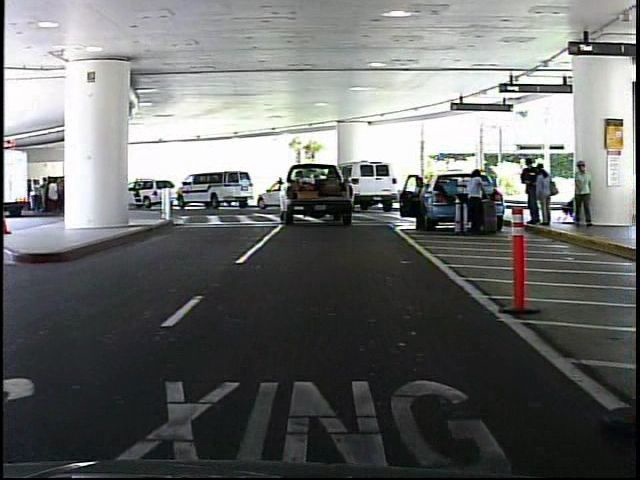person: (458, 166, 491, 240), (530, 162, 559, 235), (567, 159, 595, 234), (409, 172, 425, 195)
